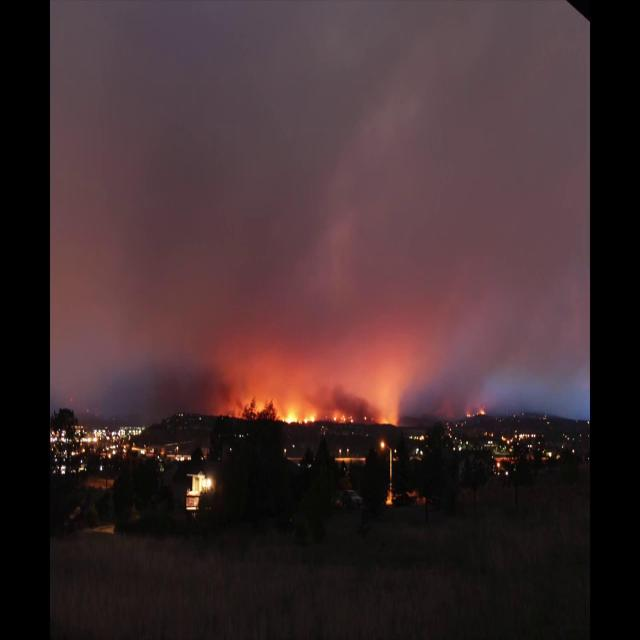Fire: (282, 412, 314, 425), (333, 414, 354, 424), (379, 419, 397, 425), (477, 408, 486, 415), (467, 410, 472, 418)
